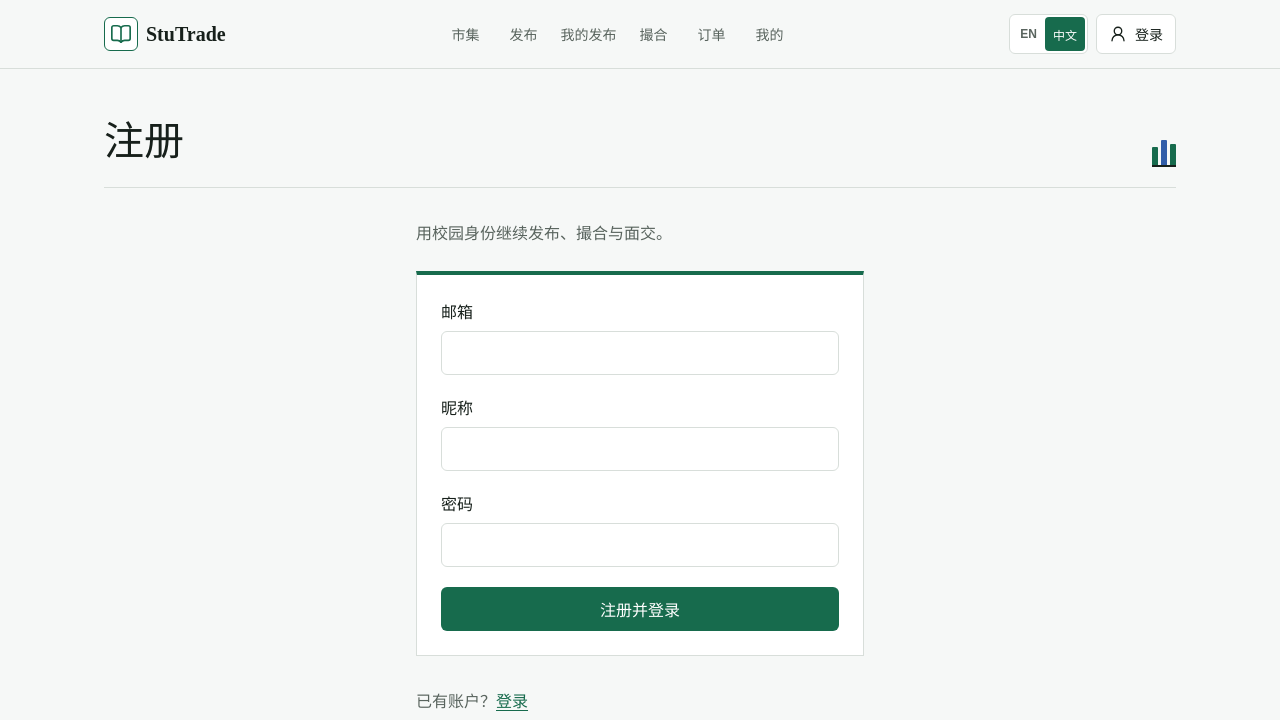
Test: authentication › uses browser validation before sending an invalid registration
Type "lin@example.edu" into the field labelled "邮箱" at (640, 353), box [441,331,839,375]
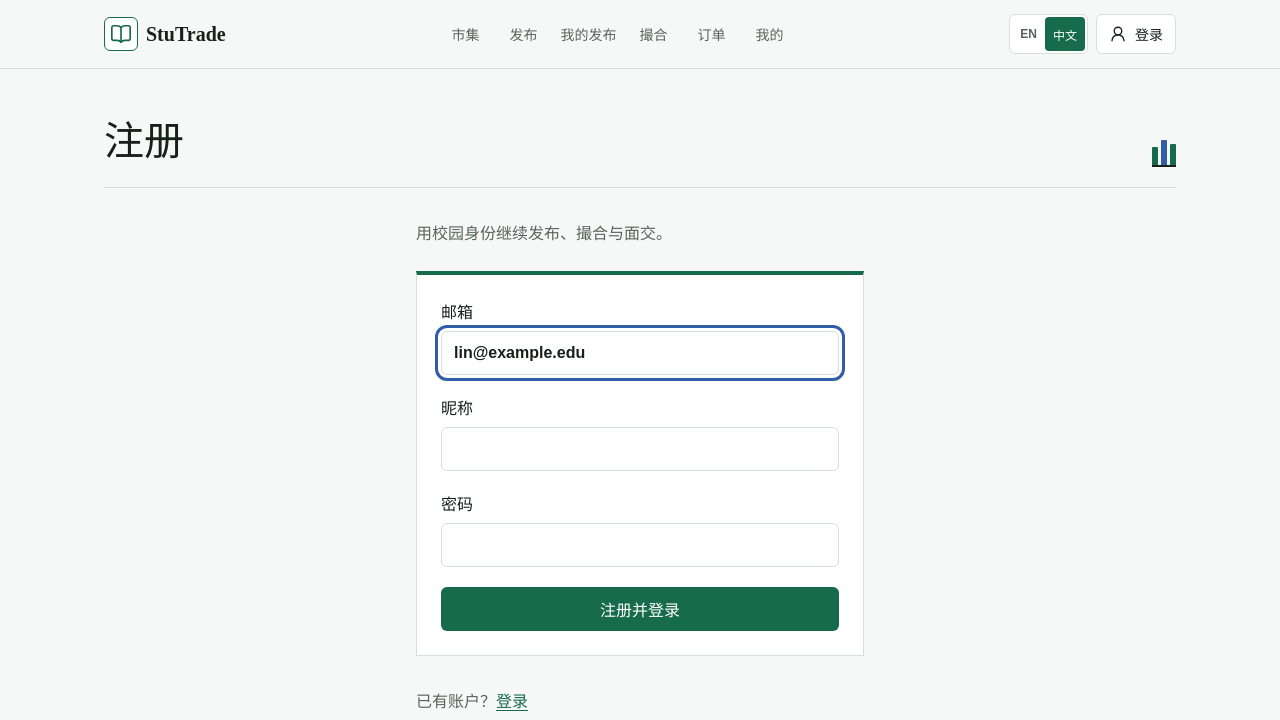
Type "林同学" into the field labelled "昵称" at (640, 449), box [441,427,839,471]
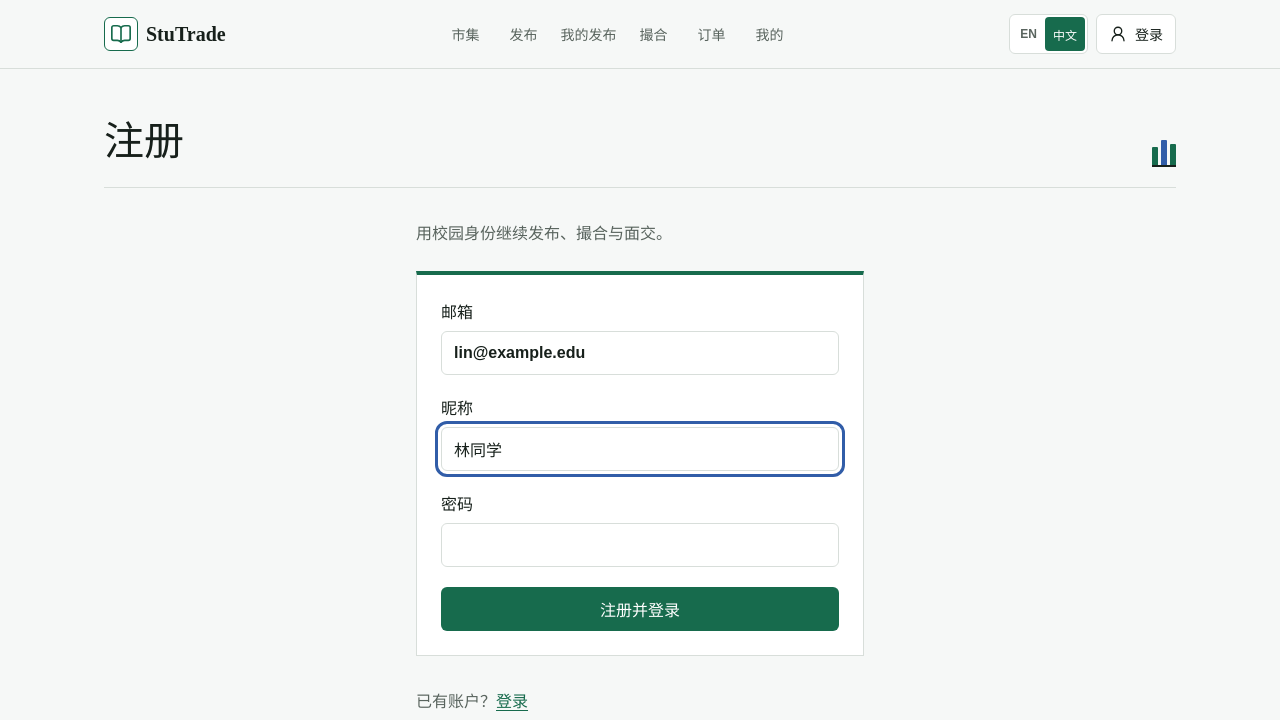
Type "short" into the password field labelled "密码" at (640, 545), box [441,523,839,567]
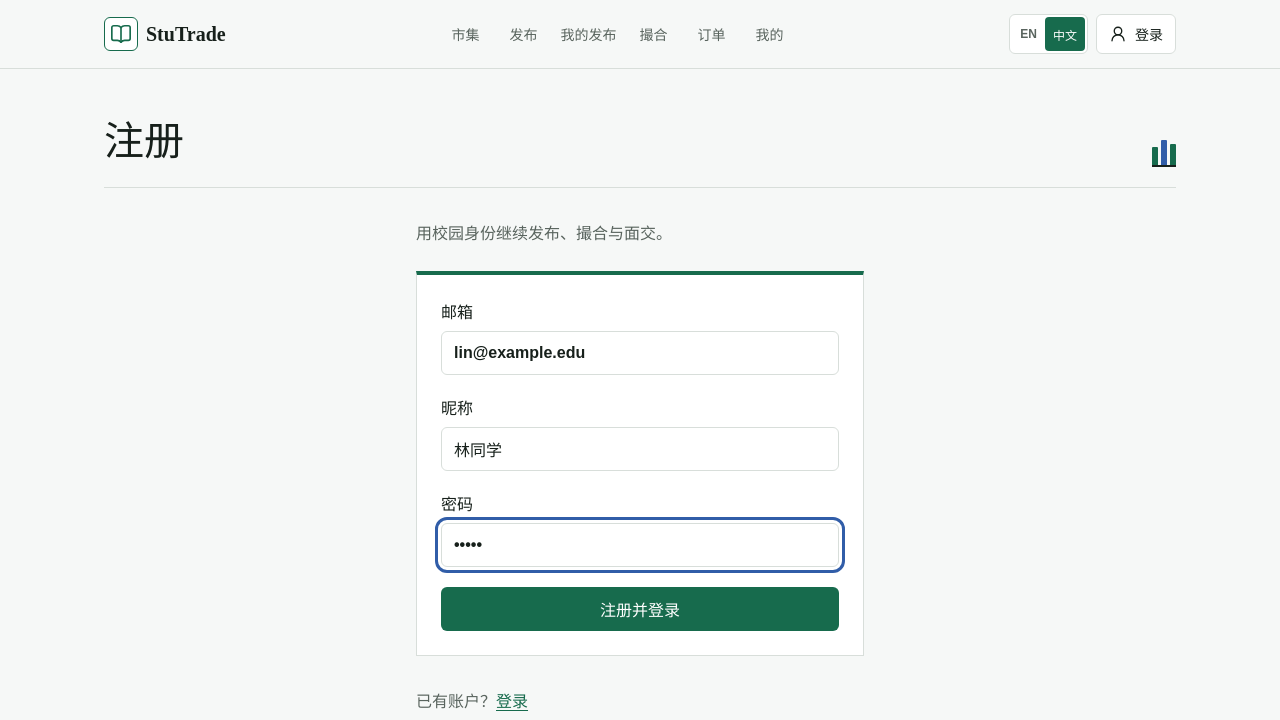
Click the button "注册并登录" at (640, 609), box [441,587,839,631]
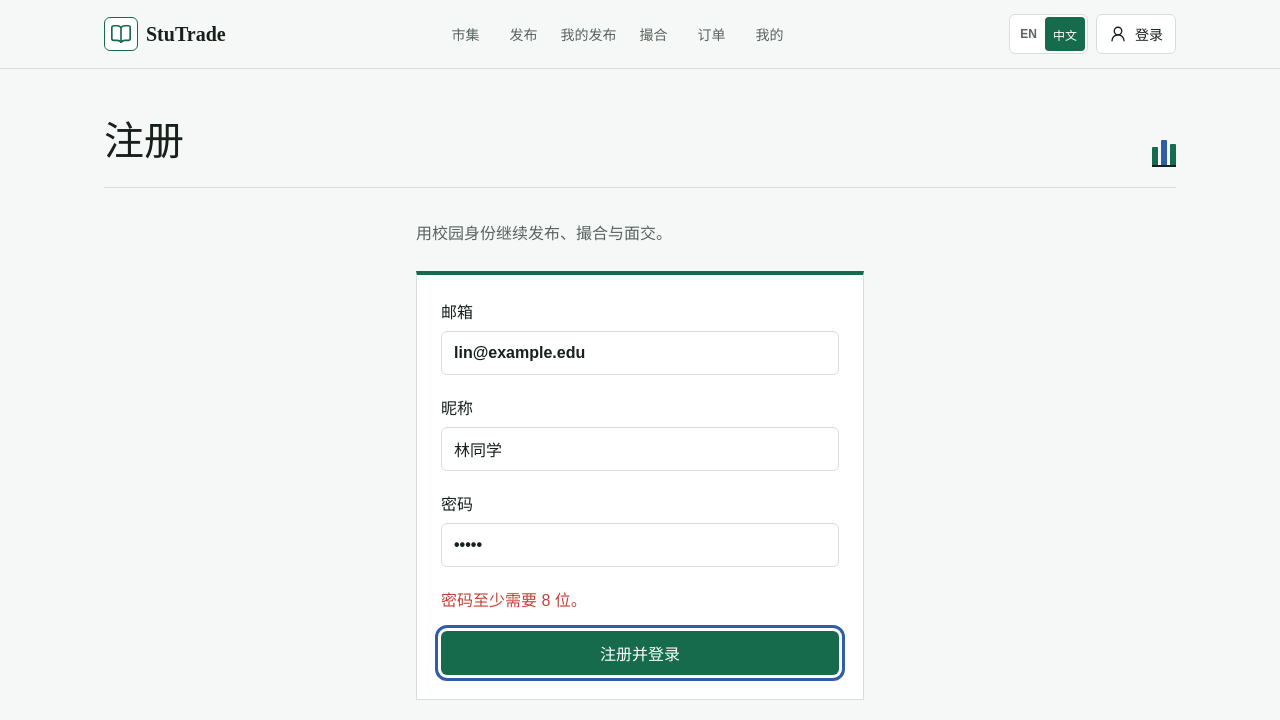
Check: the message reads "密码至少需要 8 位。", box [441,592,587,609]
